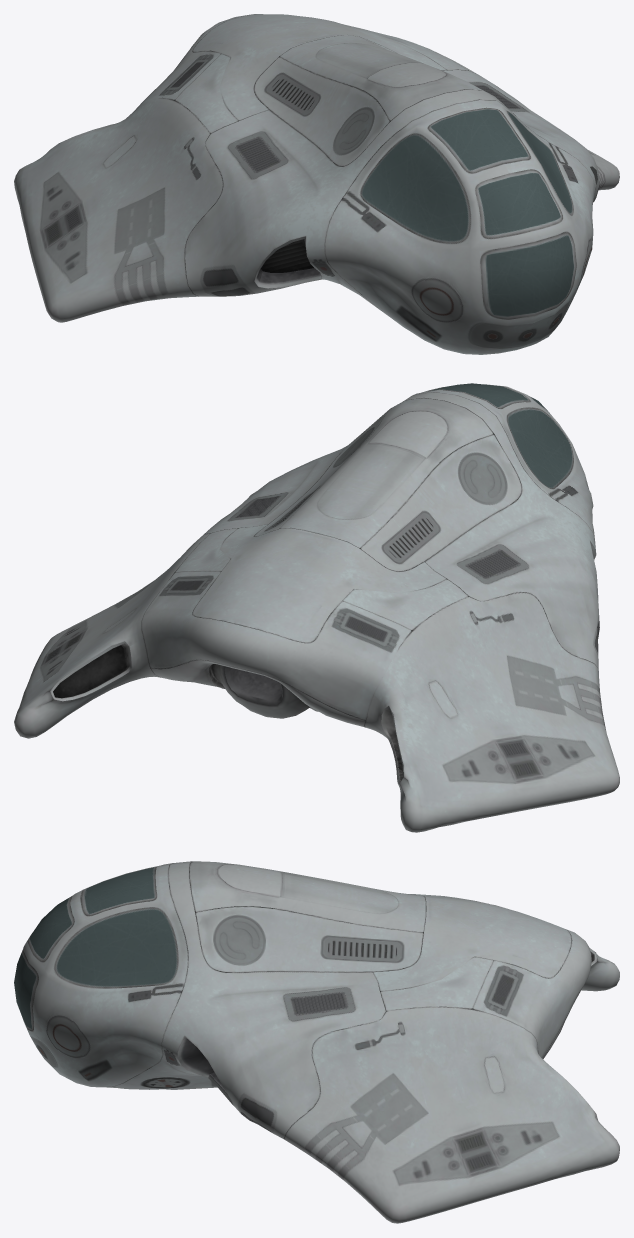
The model's file is Spaceship.obj.
The picture shows the model from 3 angles, top to bottom: view 1: azimuth 30°, elevation 25°; view 2: azimuth 150°, elevation 25°; view 3: azimuth 270°, elevation 25°; orthographic projection. The views are drawn at different scales.
Parts seen in each view (by area): view 1: Spaceship; view 2: Spaceship; view 3: Spaceship.
Boxes of the visible parts, box(x1,y1,x2,y2) form: Spaceship: box(14, 14, 619, 354); Spaceship: box(14, 383, 619, 832); Spaceship: box(14, 861, 619, 1223).
Size of the model in its own units: 596 by 244 by 590.
